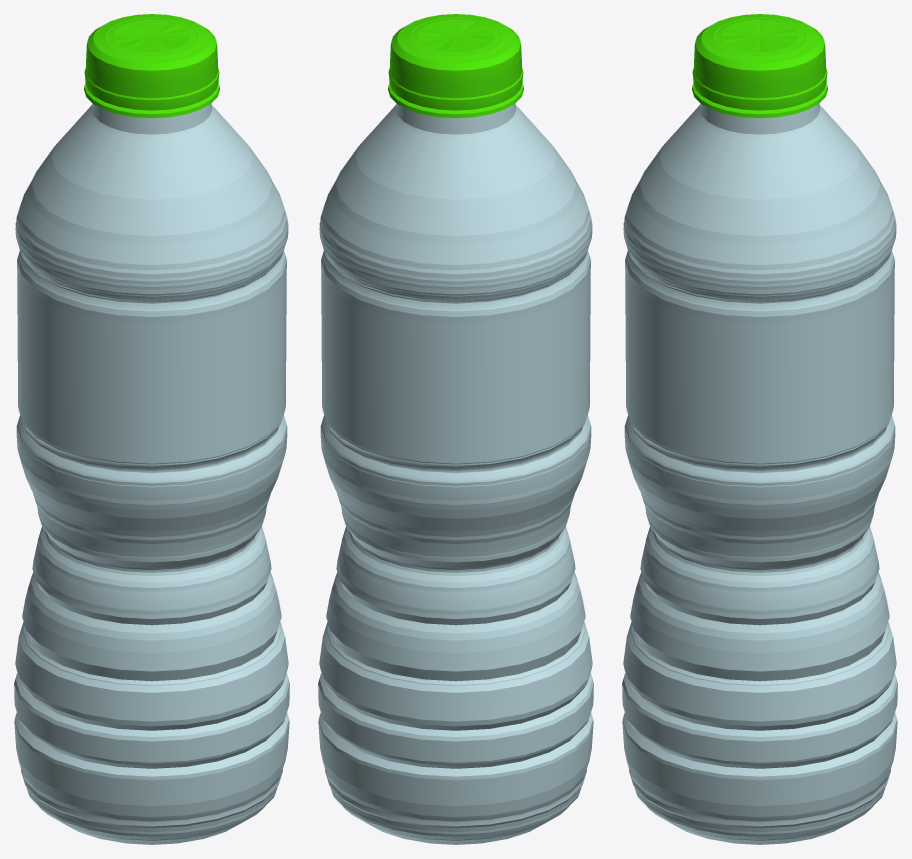
The model's file is bottle.fbx.
3 views of the same model, side by side, from view 1: azimuth 30°, elevation 25°; view 2: azimuth 150°, elevation 25°; view 3: azimuth 270°, elevation 25° (orthographic).
Visible parts, largest first — view 1: Lathe, Lathe.1; view 2: Lathe, Lathe.1; view 3: Lathe, Lathe.1.
Part boxes in pixels (x1,y1,x2,y2): Lathe: [14, 103, 289, 844]; Lathe.1: [84, 14, 219, 118]; Lathe: [318, 103, 593, 844]; Lathe.1: [388, 14, 523, 118]; Lathe: [622, 103, 897, 844]; Lathe.1: [692, 14, 827, 118].
Bounding box in the file's own units: 31572 × 98325 × 31572.
